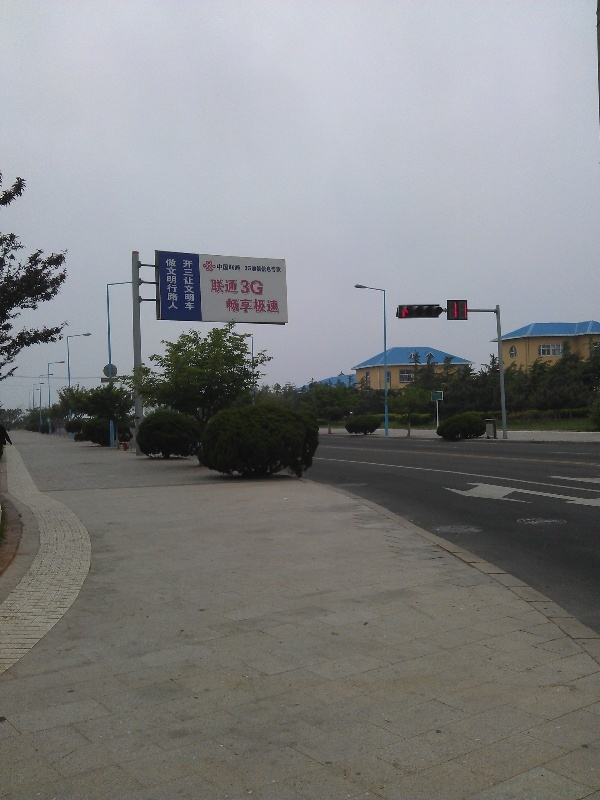text: (165, 258, 176, 311), (182, 260, 192, 311), (225, 279, 240, 296), (241, 279, 256, 296), (241, 298, 256, 314), (257, 298, 272, 314), (210, 279, 224, 296), (226, 298, 240, 314), (454, 302, 464, 319), (193, 260, 196, 311), (257, 265, 272, 273), (257, 279, 264, 296), (225, 264, 241, 271), (273, 298, 280, 314), (177, 258, 179, 311), (244, 265, 256, 273), (273, 265, 282, 273), (465, 302, 468, 319), (217, 264, 224, 271)
